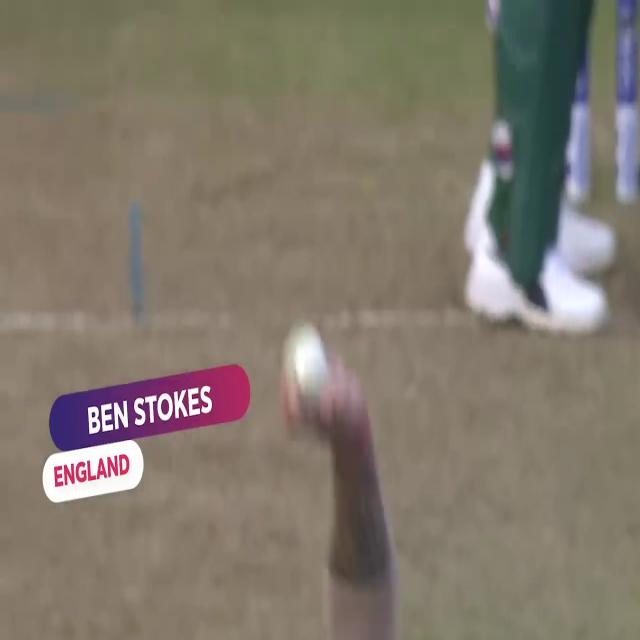ball: (282, 311, 326, 389)
